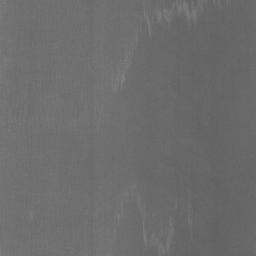Silk spot: (161, 0, 176, 11), (182, 0, 197, 10)
